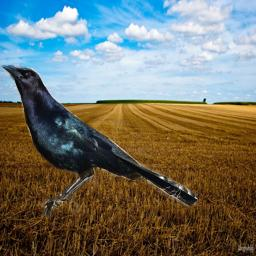Crow: (1, 65, 198, 217)
